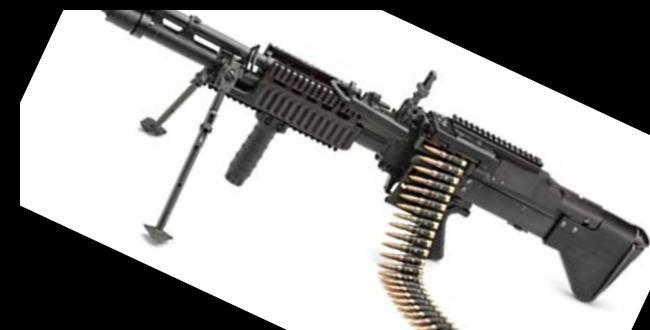larga: (101, 11, 650, 305)
